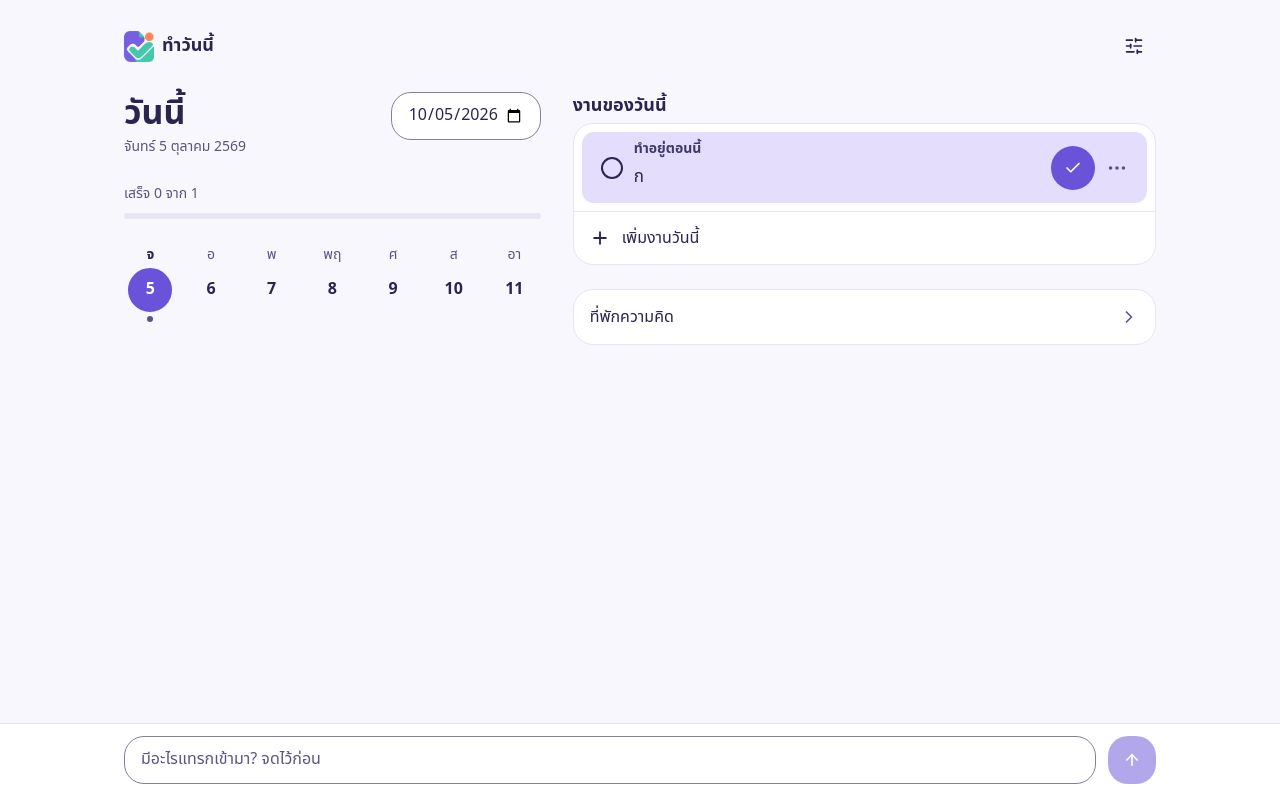
Test: ทำอยู่ตอนนี้ (เฟส 3) › ทำครบทุกงาน: ขึ้นข้อความยินดี (ไม่มีงานค้าง)
Click the button named "เสร็จแล้ว: ก".
click(1073, 168)  # box [1051,146,1095,190]
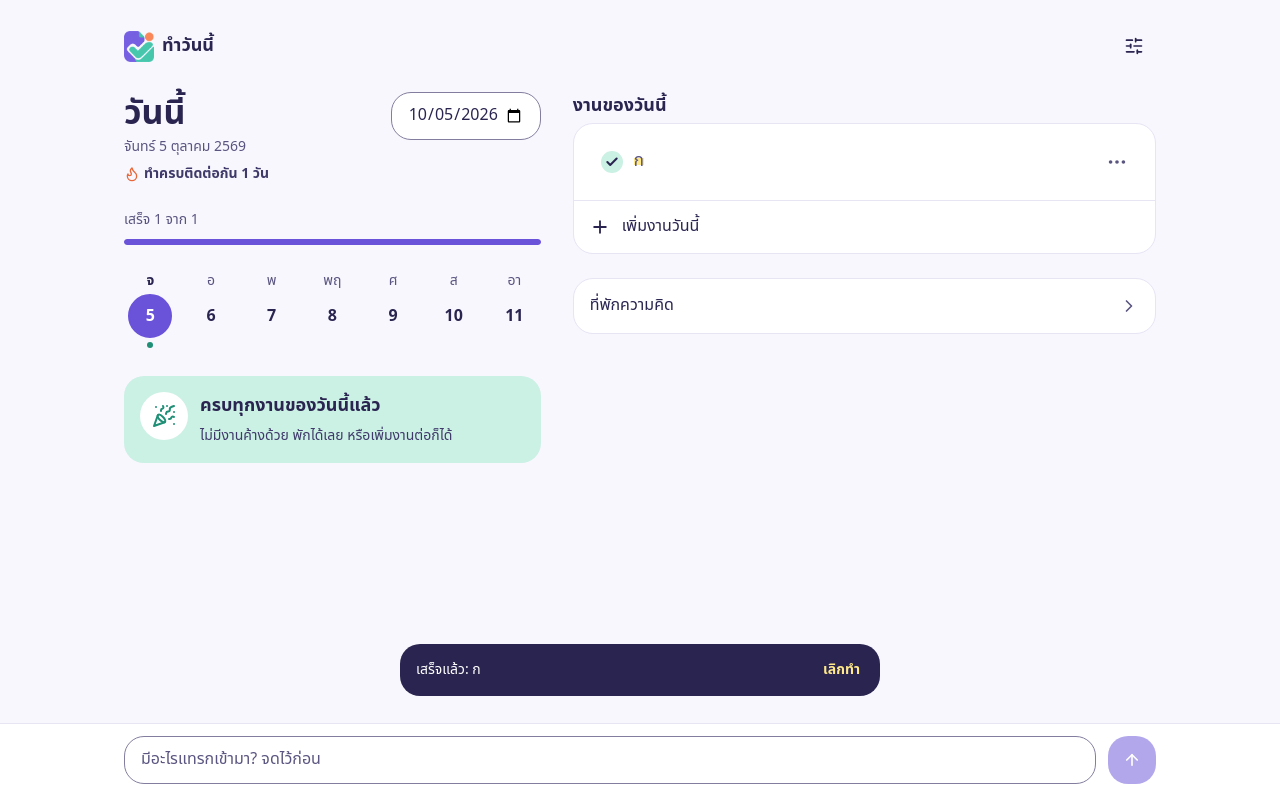
Expected: the element named "ทำครบแล้ว" shows "ครบทุกงานของวันนี้แล้ว", [200,392,381,419]
Expected: the element named "ทำครบแล้ว" shows "ไม่มีงานค้างด้วย", [200,425,452,446]
